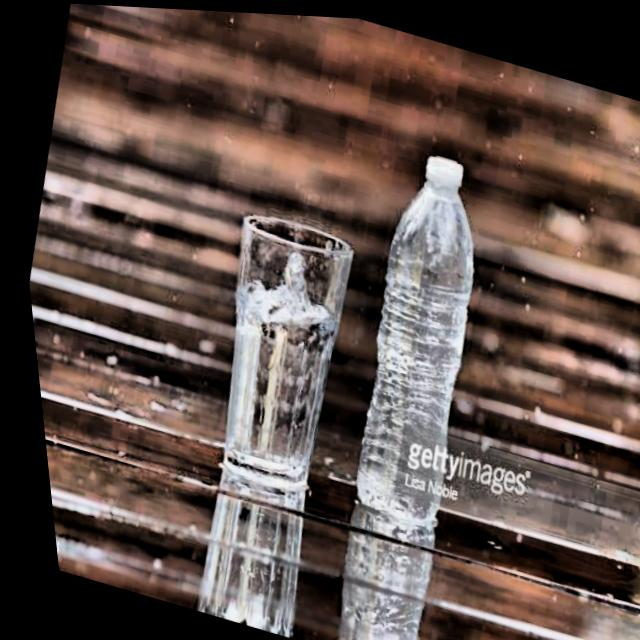Bottles: (296, 117, 530, 544)
